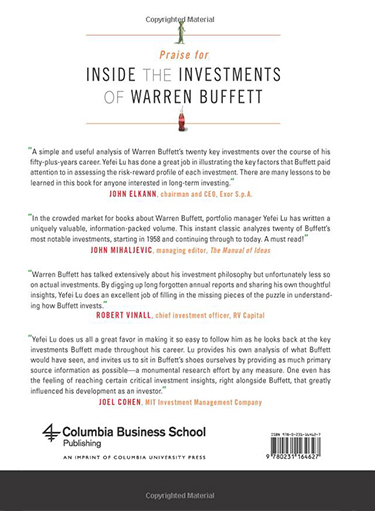barcode: (262, 428, 327, 464)
